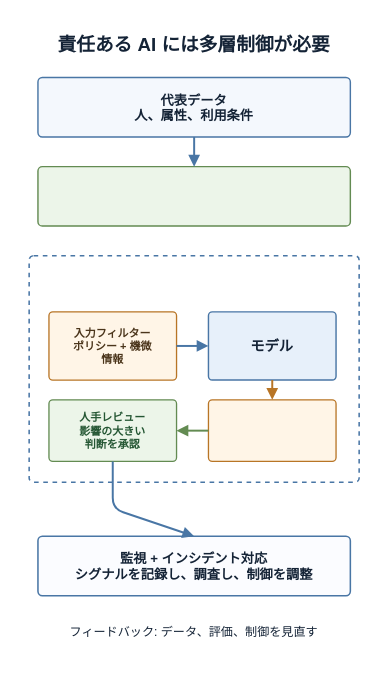
Some shapes in this 388 by 685 pixel diagram are drawn without their labels. The shapes that lost their labels are listed below. From the top down, each one's box as (x1, y1, x2, y2) in pixels, then its label:
(37, 165, 351, 226): サブグループ評価 性能を比較し影響を説明
(28, 254, 359, 483): IAM 認可 アイデンティティを分離し最小権限
(207, 399, 336, 462): 出力フィルター 有害コンテンツ + 機密データ
